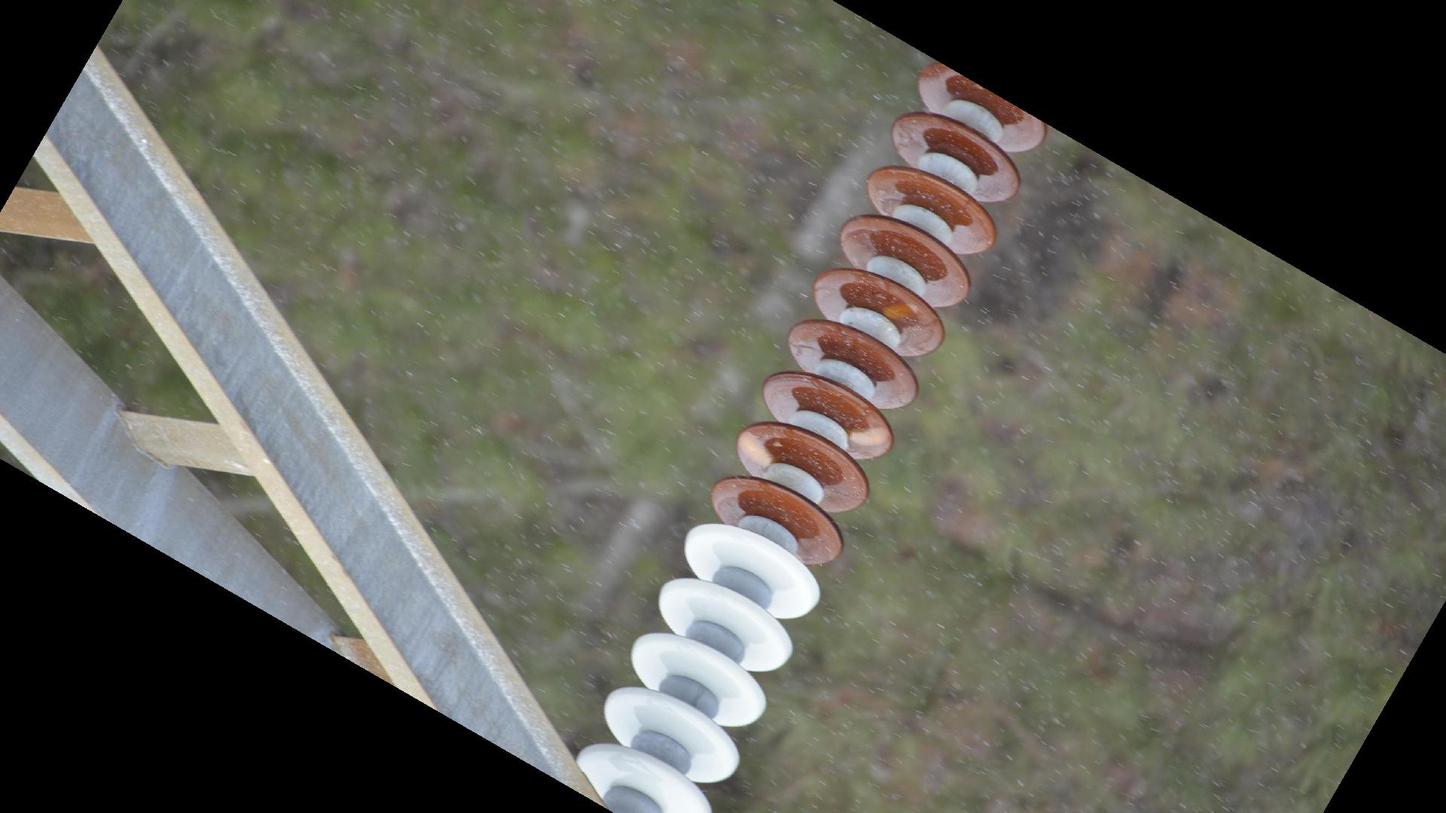insulator: (572, 56, 1054, 813)
insulator_flashover: (736, 428, 777, 468), (848, 424, 892, 449), (879, 301, 918, 324)
